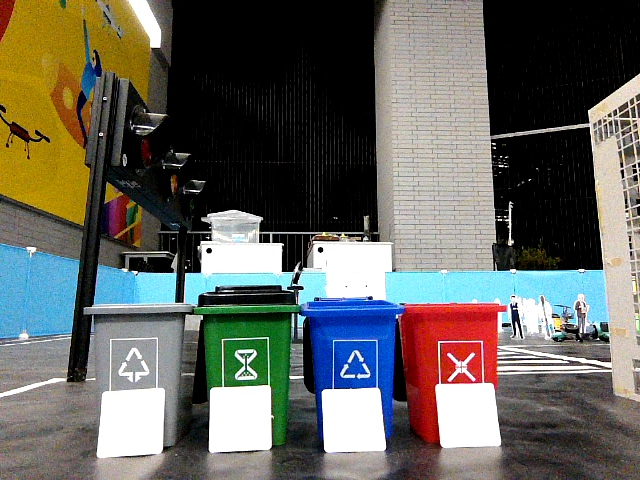blue_open: (310, 297, 391, 384)
green_close: (202, 284, 289, 381)
grey_open: (95, 302, 185, 387)
red_open: (410, 302, 493, 380)
